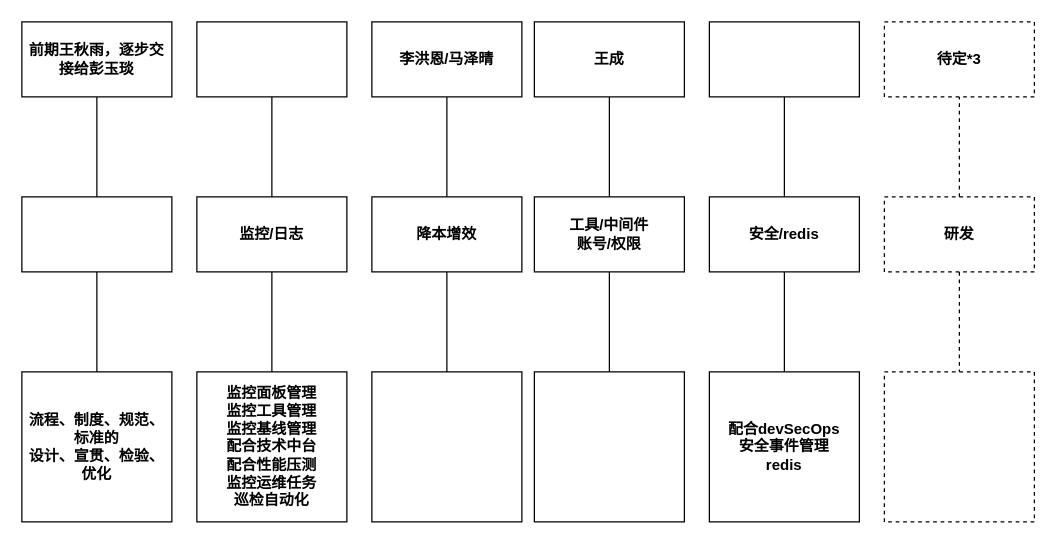
This 1056x544 diagram has some shape labels left out. Each missing label, with the centre of its shape:
"CFS" goes at (96,234).
"各类云资源降配 推进serverless 配合现代化落地 费用统计" goes at (446,446).
"工具管理 各类中间件 账号申请 系统集成账号管理 权限管理" goes at (608,446).
"推进自动化 各类研发需求" goes at (958,446).
"牛磊" goes at (271,59).
"郭文轩" goes at (783,59).
